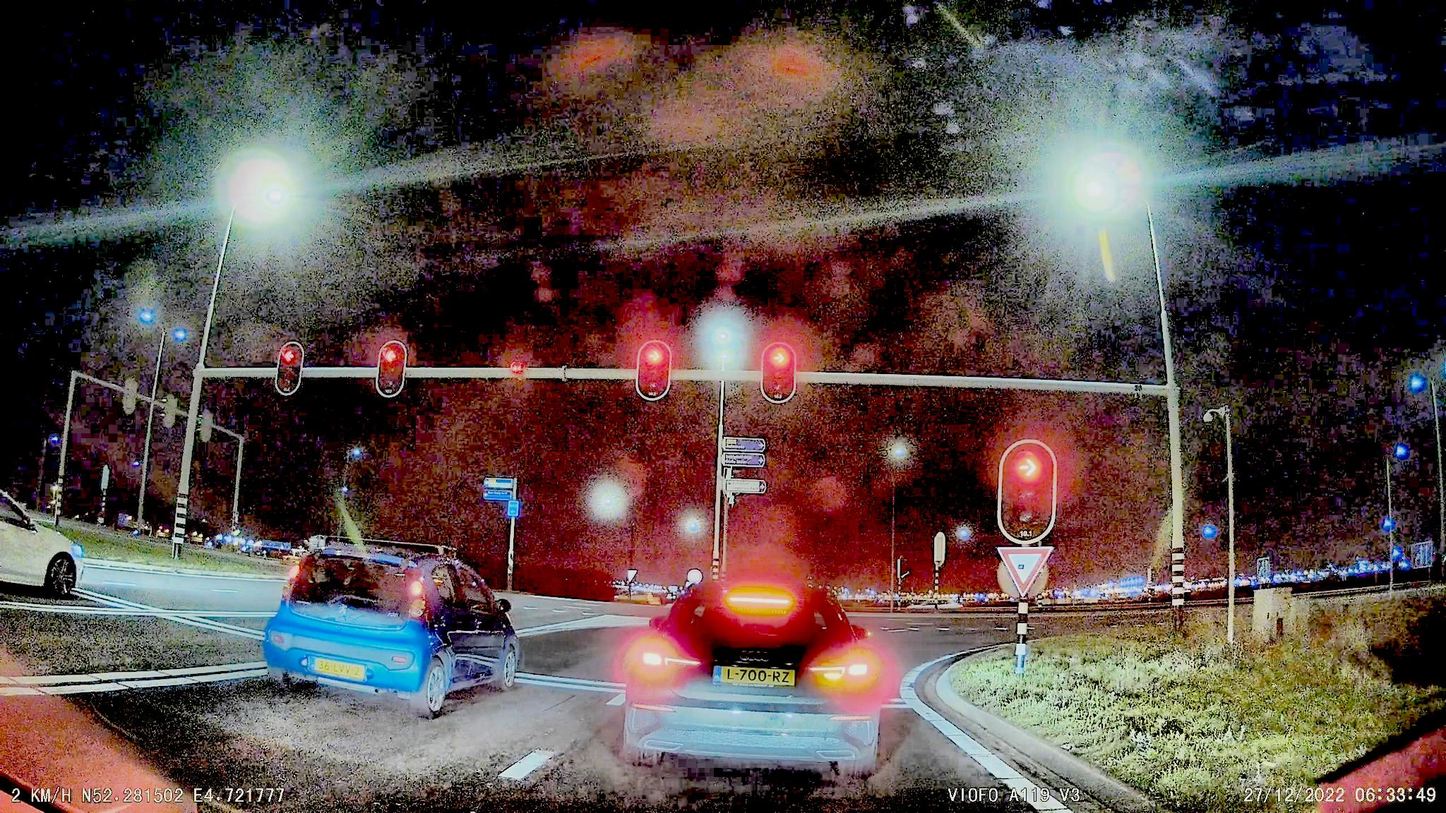Roads: (0, 566, 1164, 813)
